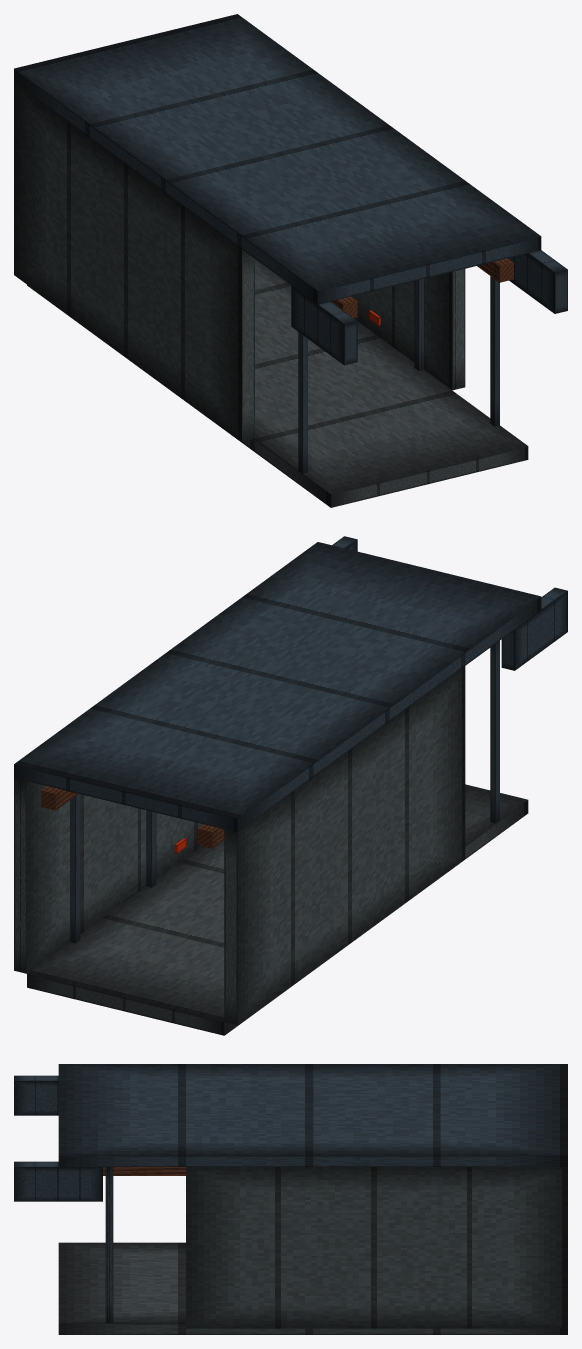
Rendered from corredor_3.obj.
3 renders of one model, top to bottom at view 1: azimuth 30°, elevation 25°; view 2: azimuth 150°, elevation 25°; view 3: azimuth 270°, elevation 25°, orthographic. The views are drawn at different scales.
Size of the model in its own units: 3.4 by 3.2 by 8.7.
6 materials, 6 textured.
